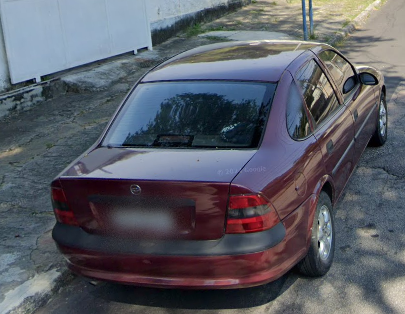car: (51, 39, 389, 290)
